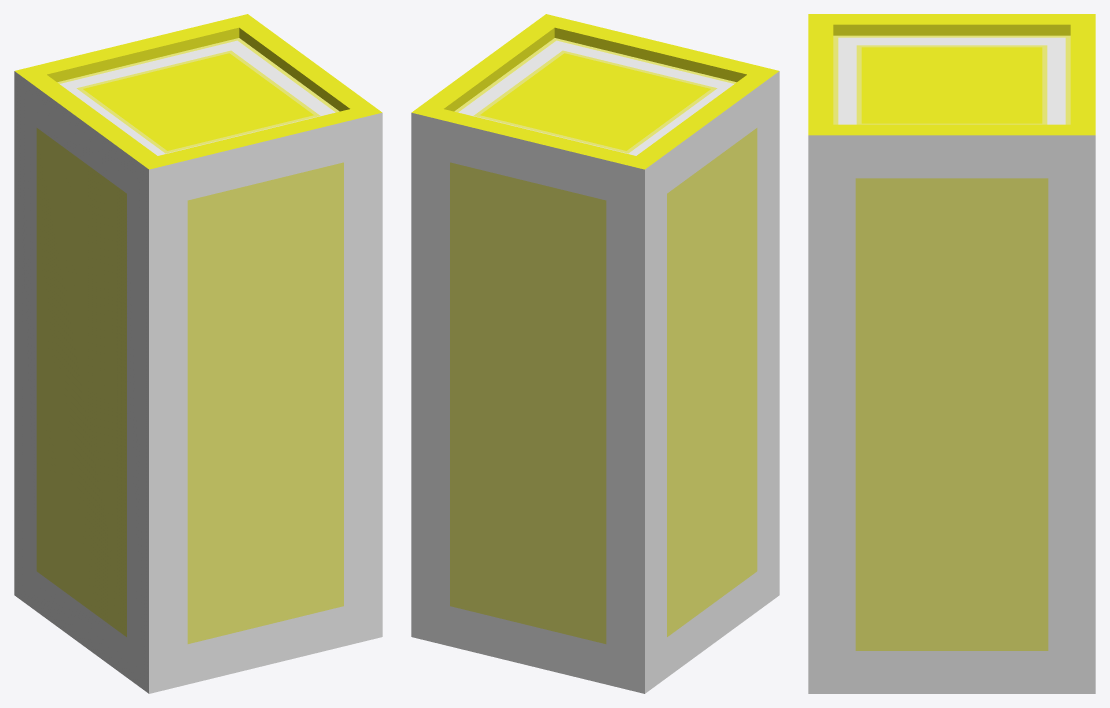
The model's file is PillarYellow.glb.
3 renders of one model, left to right at view 1: azimuth 30°, elevation 25°; view 2: azimuth 150°, elevation 25°; view 3: azimuth 270°, elevation 25°, orthographic. The views are drawn at different scales.
Parts seen in each view (by area): view 1: Cube.003; view 2: Cube.003; view 3: Cube.003.
Boxes of the visible parts, left/top/right/bottom form: Cube.003: left=14, top=14, right=382, bottom=693; Cube.003: left=411, top=14, right=779, bottom=693; Cube.003: left=808, top=14, right=1095, bottom=693.
Size of the model in its own units: 1.84 by 4.01 by 1.84.
Materials: 1 (1 with a texture image).
